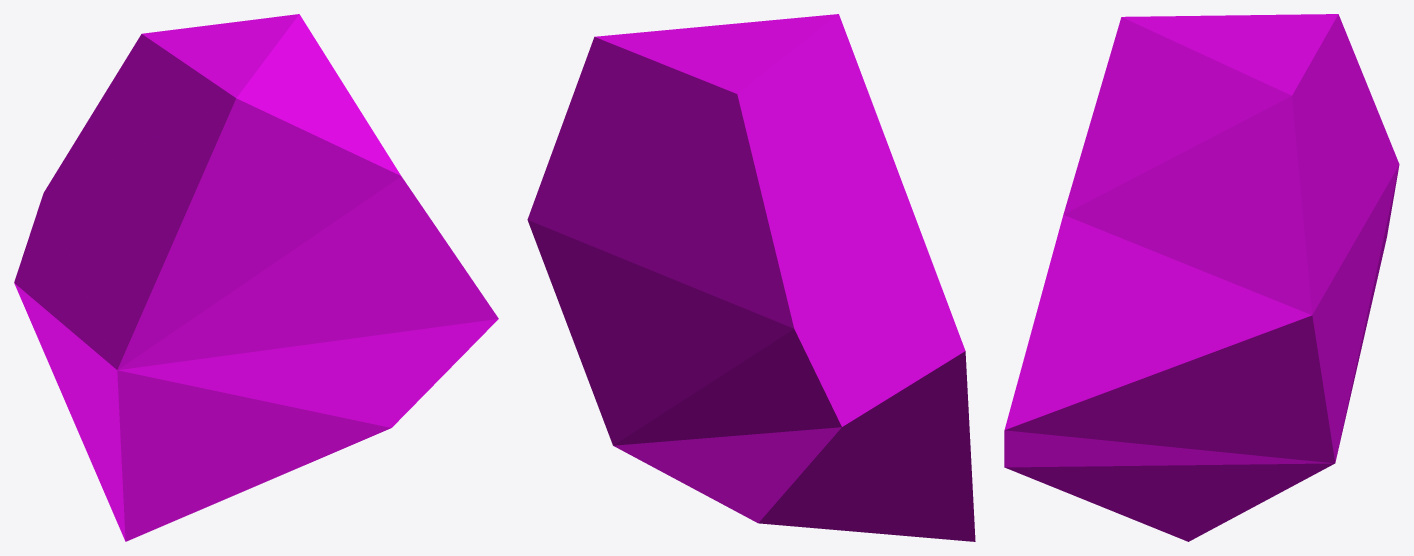
File: crystal_2.fbx
3 renders of one model, left to right at view 1: azimuth 30°, elevation 25°; view 2: azimuth 150°, elevation 25°; view 3: azimuth 270°, elevation 25°, orthographic. The views are drawn at different scales.
Parts seen in each view (by area): view 1: Cube; view 2: Cube; view 3: Cube.
Part boxes in pixels (x1,y1,x2,y2): Cube: [14, 14, 498, 541]; Cube: [527, 14, 975, 541]; Cube: [1004, 14, 1399, 541].
Bounding box in the file's own units: 165 × 200 × 143.
